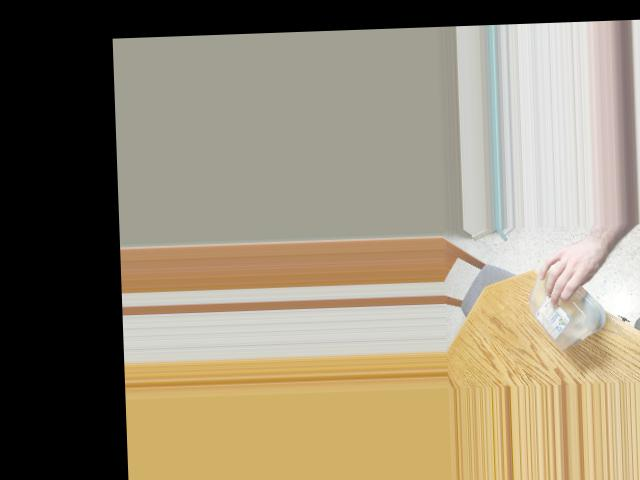cheese: (527, 255, 604, 350)
